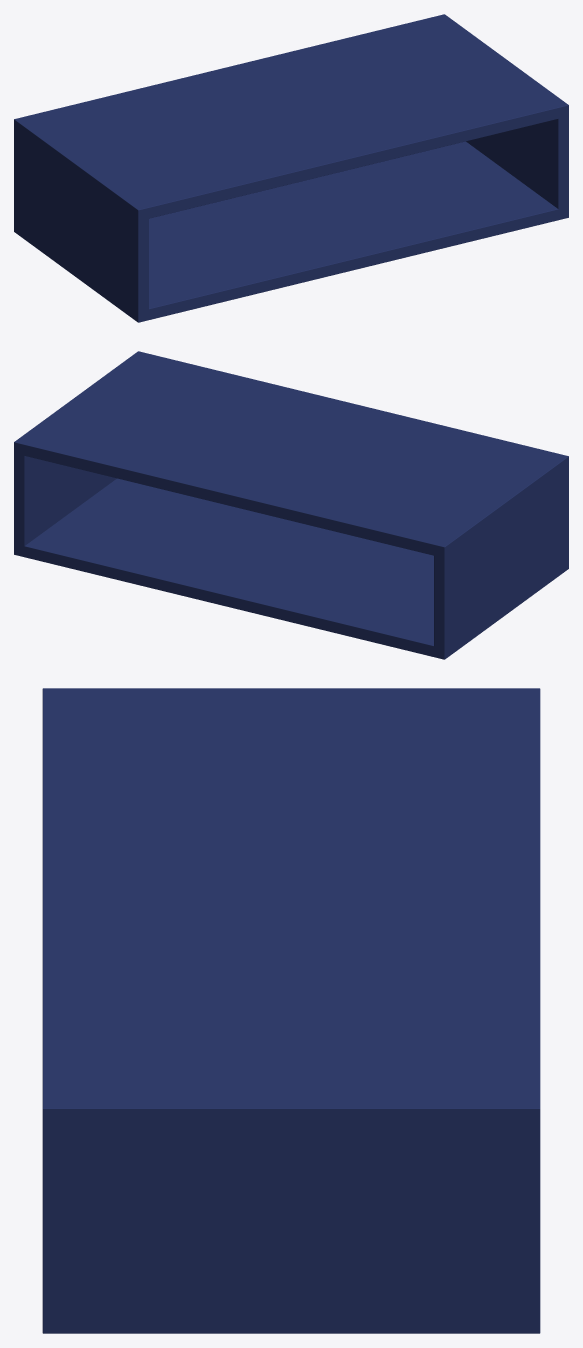
The model's file is MOD_2X05_A_O_AF.glb.
3 renders of one model, top to bottom at view 1: azimuth 30°, elevation 25°; view 2: azimuth 150°, elevation 25°; view 3: azimuth 270°, elevation 25°, orthographic. The views are drawn at different scales.
Bounding box in the file's own units: 720 × 180 × 360.
